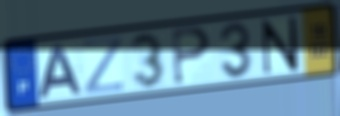3: (129, 31, 167, 89), (218, 20, 253, 81)
A: (37, 43, 86, 101)
N: (260, 14, 301, 77)
P: (170, 25, 213, 87)
Z: (81, 34, 125, 97)
